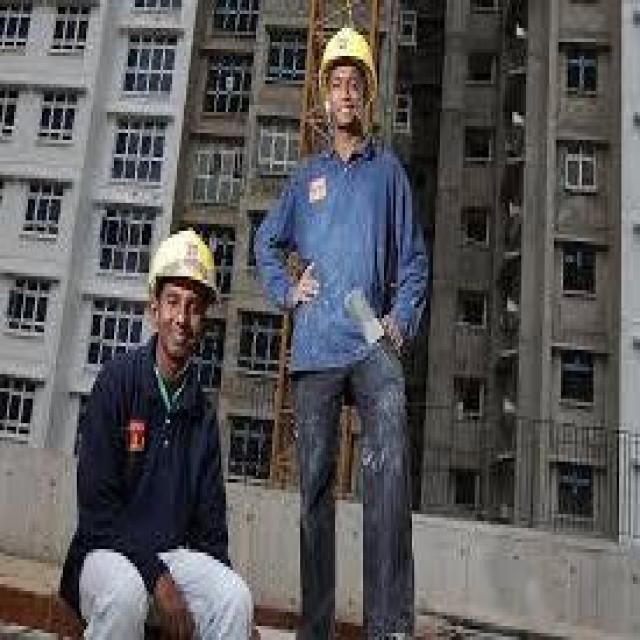Safety-Helmet: (140, 220, 226, 308), (314, 24, 382, 88)
